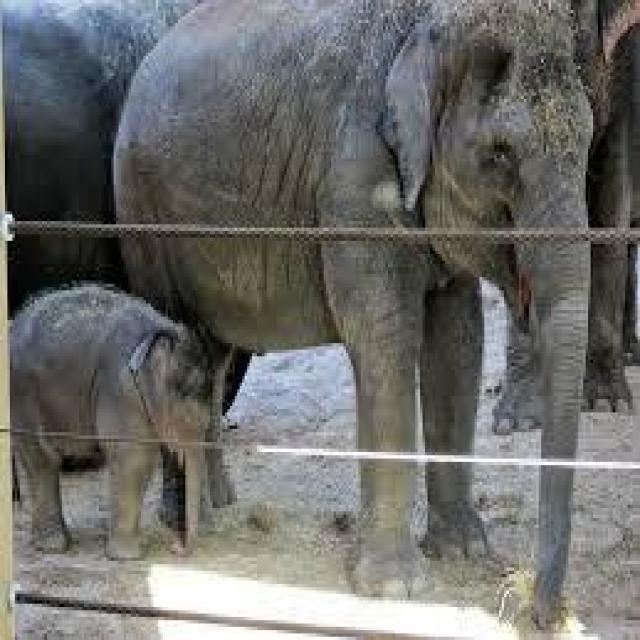Elephant: (3, 13, 583, 620), (8, 284, 218, 564)
